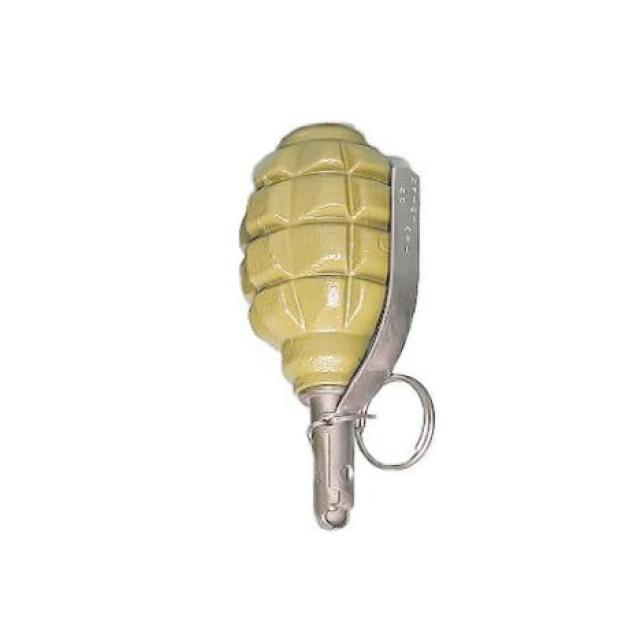grenade: (237, 124, 436, 532)
